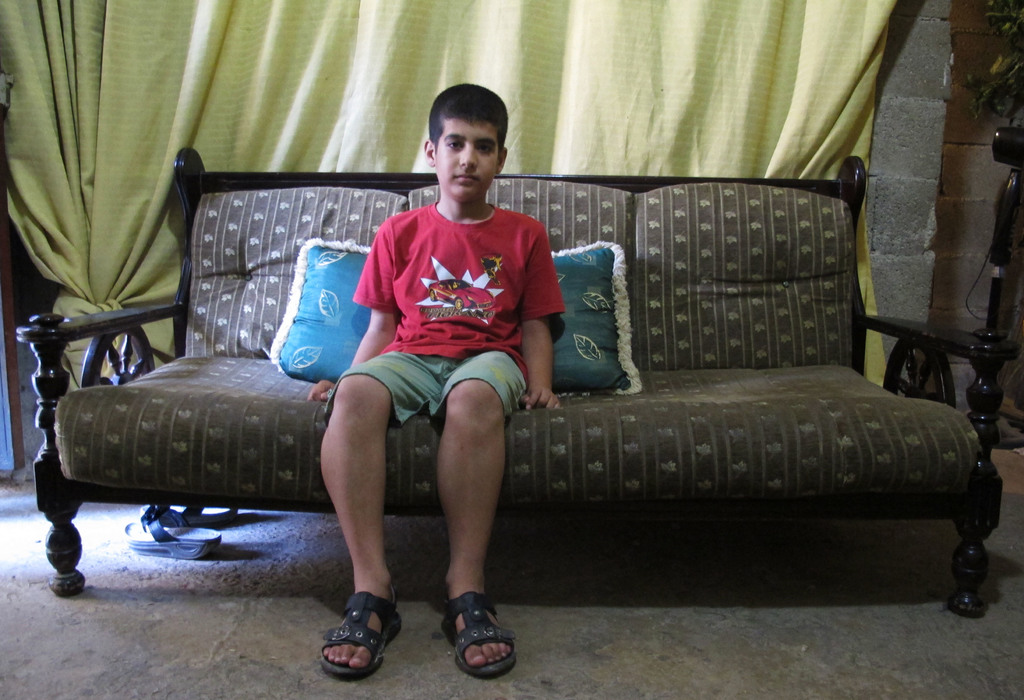Human_hand: (520, 379, 562, 414), (306, 379, 335, 404)
